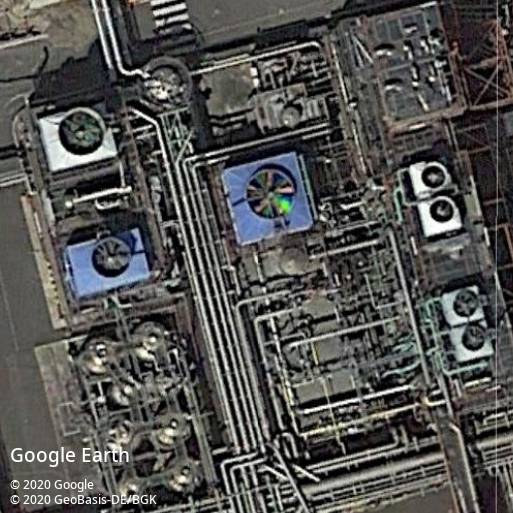Vent: (244, 167, 297, 221), (55, 107, 107, 158), (90, 237, 133, 281), (428, 195, 456, 225), (420, 162, 447, 190), (452, 290, 479, 318), (460, 326, 486, 352)
